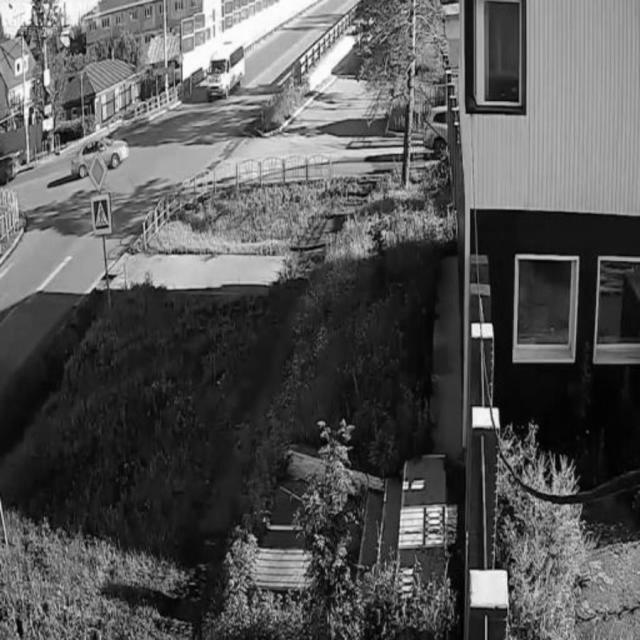vehicle: (207, 40, 251, 106), (70, 139, 132, 175)
